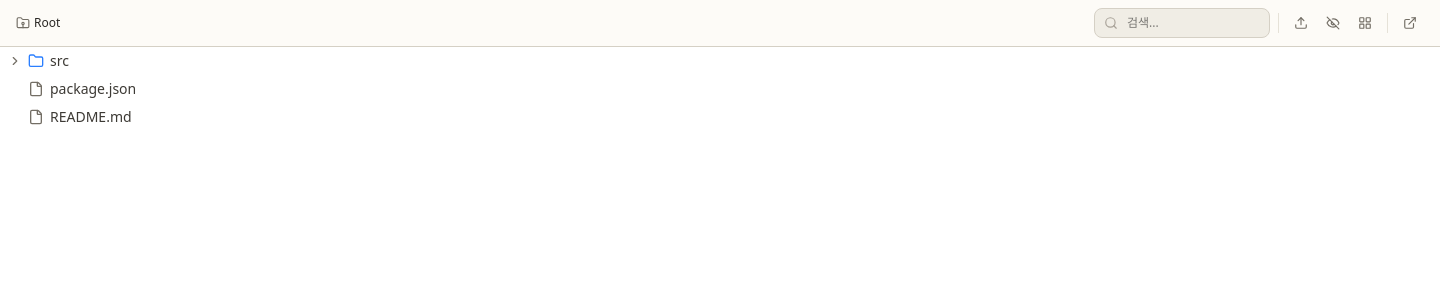
FileExplorerTab › passes enableContextMenu={true} to FileTree
Right-click the text "src" at (59, 61), box [50,51,69,71]
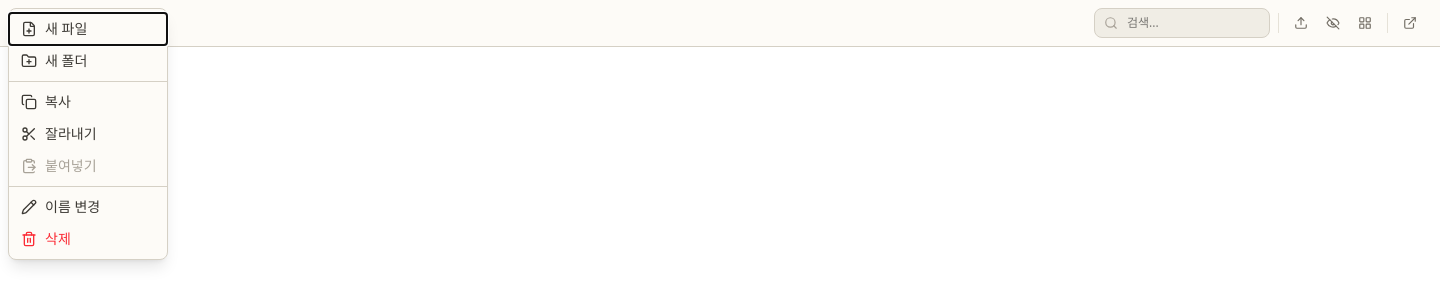
Expected: the menu item "새 파일" is shown, [9,13,167,45]
